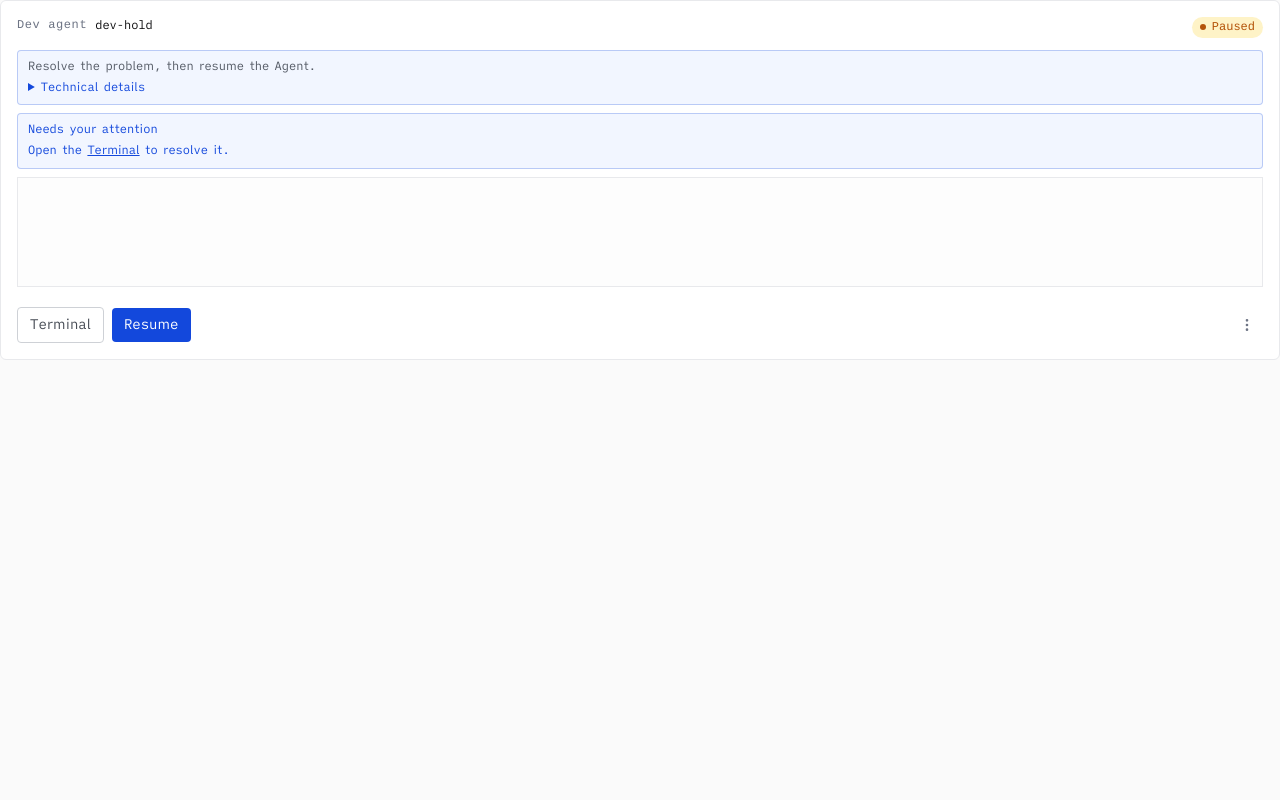
Scenario: AgentCard › Held recovery via Resume button › surfaces a Resume failure as an error toast and re-enables the button
Click the button "Resume": (151, 325) top-left (112, 308), bottom-right (190, 342)
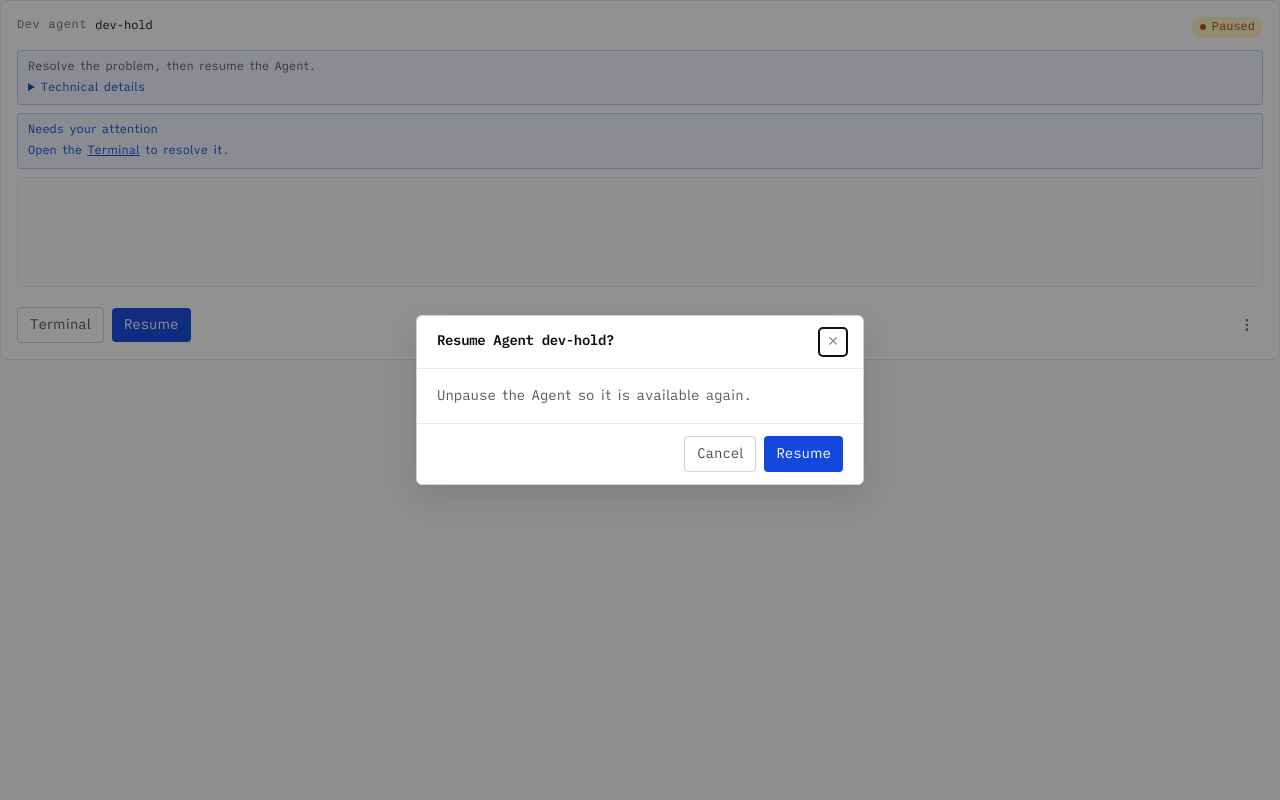
Click the button "Resume": (804, 454) top-left (764, 436), bottom-right (843, 472)
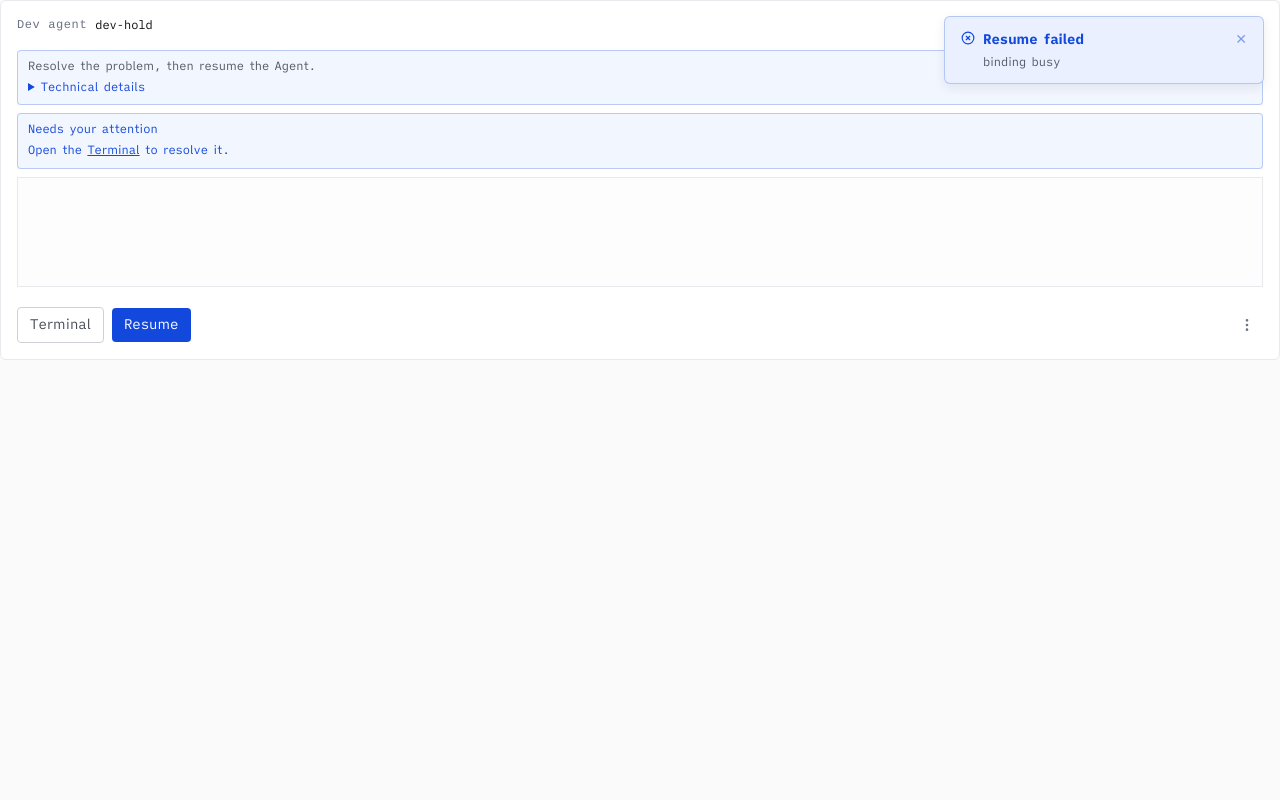
Expected: the text "binding busy" is shown, top-left (983, 55), bottom-right (1060, 70)
